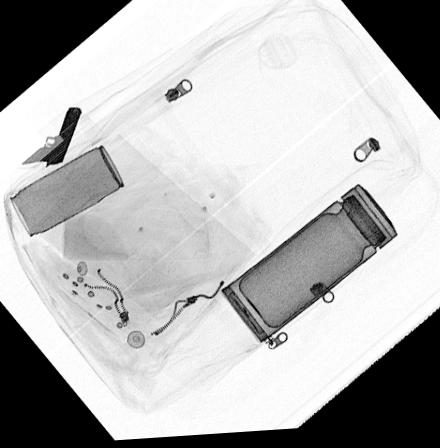Gun: (21, 106, 83, 170)
